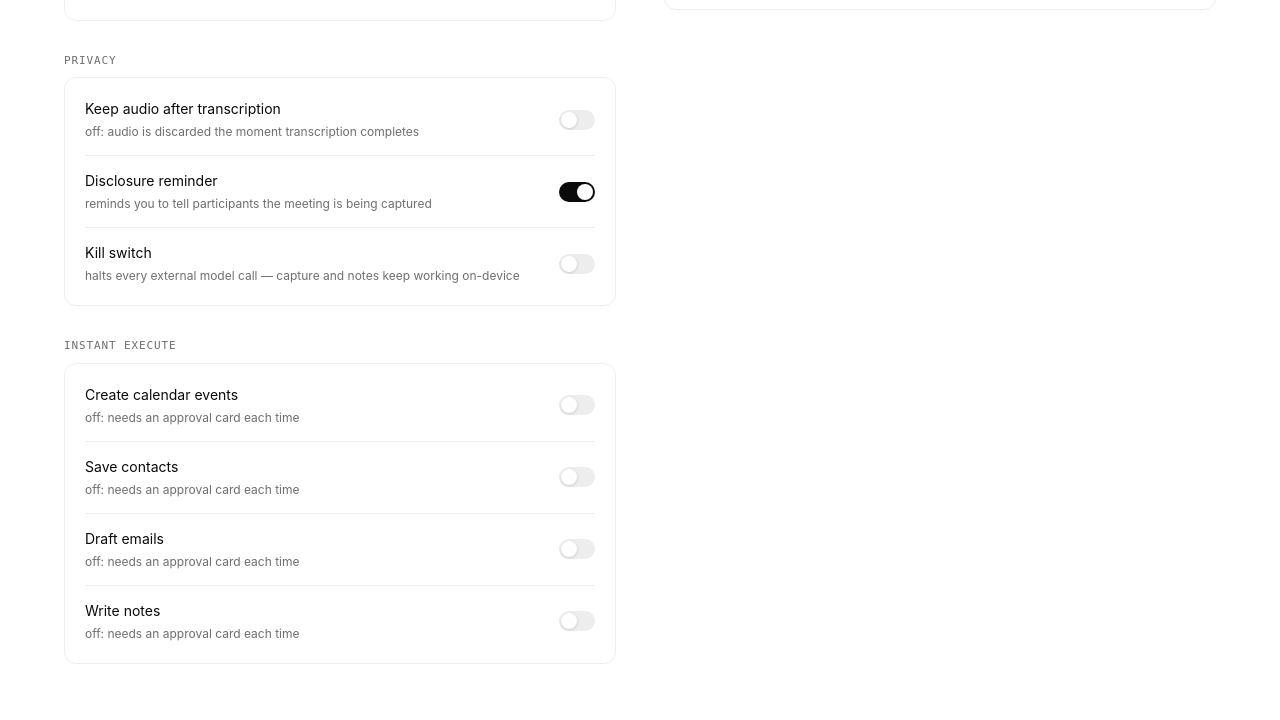
instant-execute whitelist (deny by default) › enabling one persists exactly that intent type
The width and height of the screenshot is (1280, 720).
(page scrolled)
Click the switch named "Instant execute Create calendar events" at (577, 405), box [559,395,595,415]
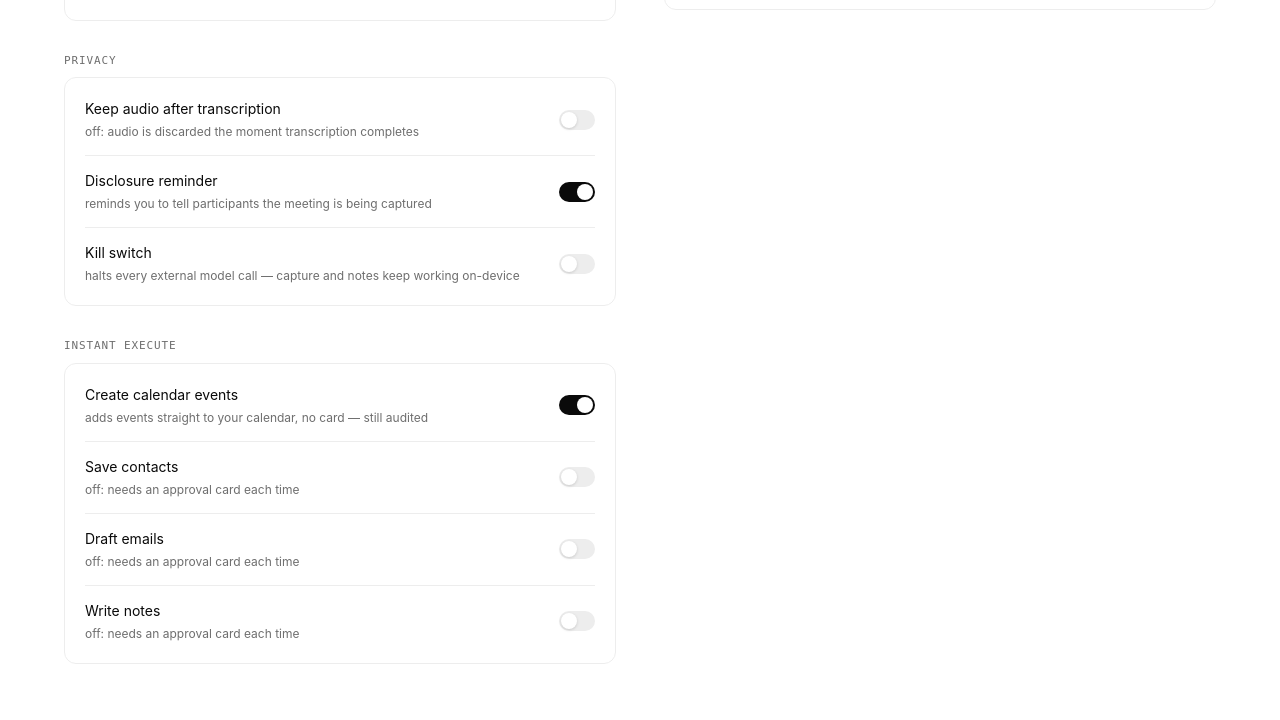
expect the text "no card — still audited" is shown: met, box [85,410,428,425]
